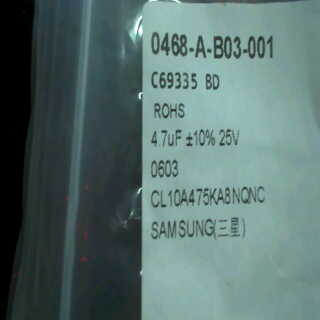4.7uF: (149, 124, 183, 149)
